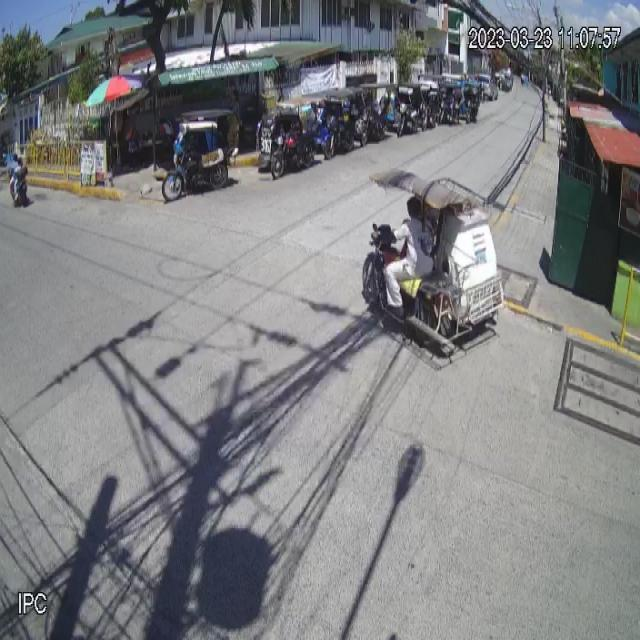Tricycle: (361, 168, 505, 360), (162, 108, 238, 203)
